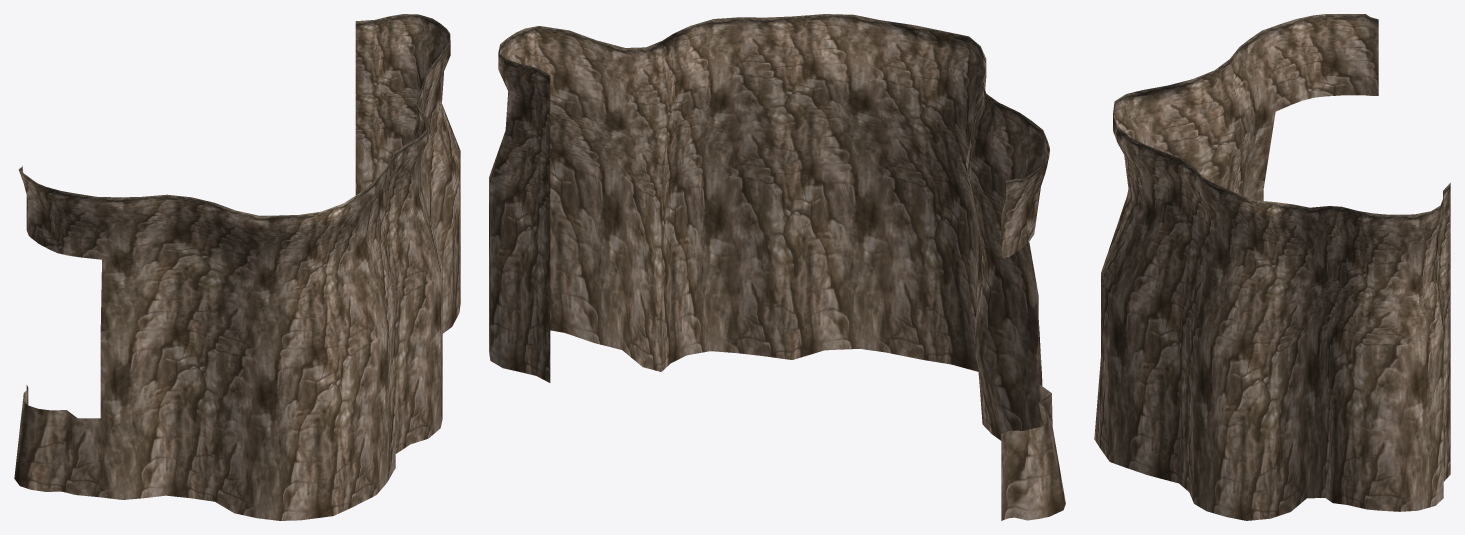
Rendered from OVERHILL_A_01_OBJECT52.fbx.
3 renders of one model, left to right at view 1: azimuth 30°, elevation 25°; view 2: azimuth 150°, elevation 25°; view 3: azimuth 270°, elevation 25°, orthographic. The views are drawn at different scales.
Parts seen in each view (by area): view 1: OVERHILL_A_01_OBJECT52; view 2: OVERHILL_A_01_OBJECT52; view 3: OVERHILL_A_01_OBJECT52.
Boxes of the visible parts, x1=… form: OVERHILL_A_01_OBJECT52: x1=14, y1=14, x2=460, y2=520; OVERHILL_A_01_OBJECT52: x1=489, y1=14, x2=1065, y2=520; OVERHILL_A_01_OBJECT52: x1=1094, y1=14, x2=1450, y2=520.
Bounding box in the file's own units: 336200 × 229725 × 206958.
2 materials, 2 textured.
